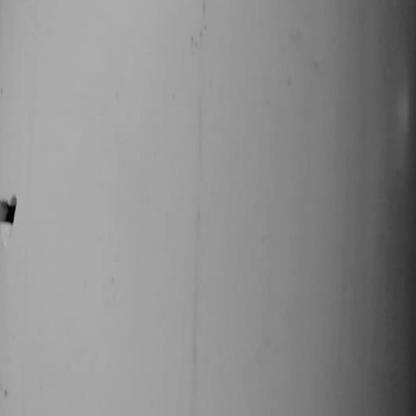kongdong: (1, 195, 46, 219)
